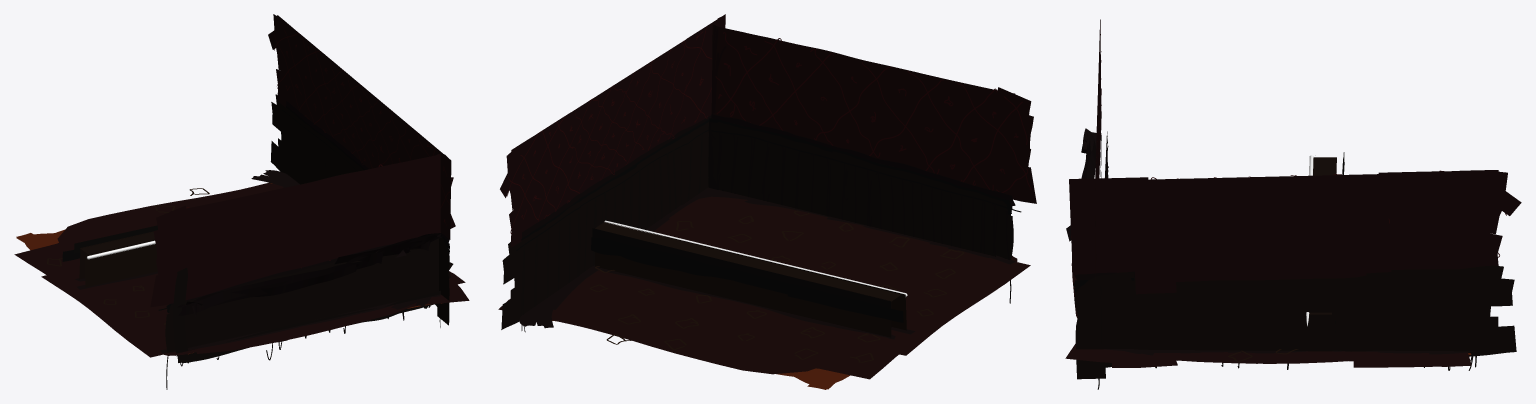
Rendered from bar_scene.fbx.
The picture shows the model from 3 angles, left to right: view 1: azimuth 30°, elevation 25°; view 2: azimuth 150°, elevation 25°; view 3: azimuth 270°, elevation 25°; orthographic projection. The views are drawn at different scales.
Visible parts, largest first — view 1: Untitled_11_Flat_geo; view 2: Untitled_11_Flat_geo, Untitled_11_Toon_geo; view 3: Untitled_11_Flat_geo.
Part boxes in pixels (<box>): Untitled_11_Flat_geo: <box>14,14,469,389</box>; Untitled_11_Flat_geo: <box>498,14,1036,389</box>; Untitled_11_Toon_geo: <box>604,220,907,296</box>; Untitled_11_Flat_geo: <box>1065,19,1521,389</box>.
Bounding box in the file's own units: 5.38 × 3.03 × 5.6.
